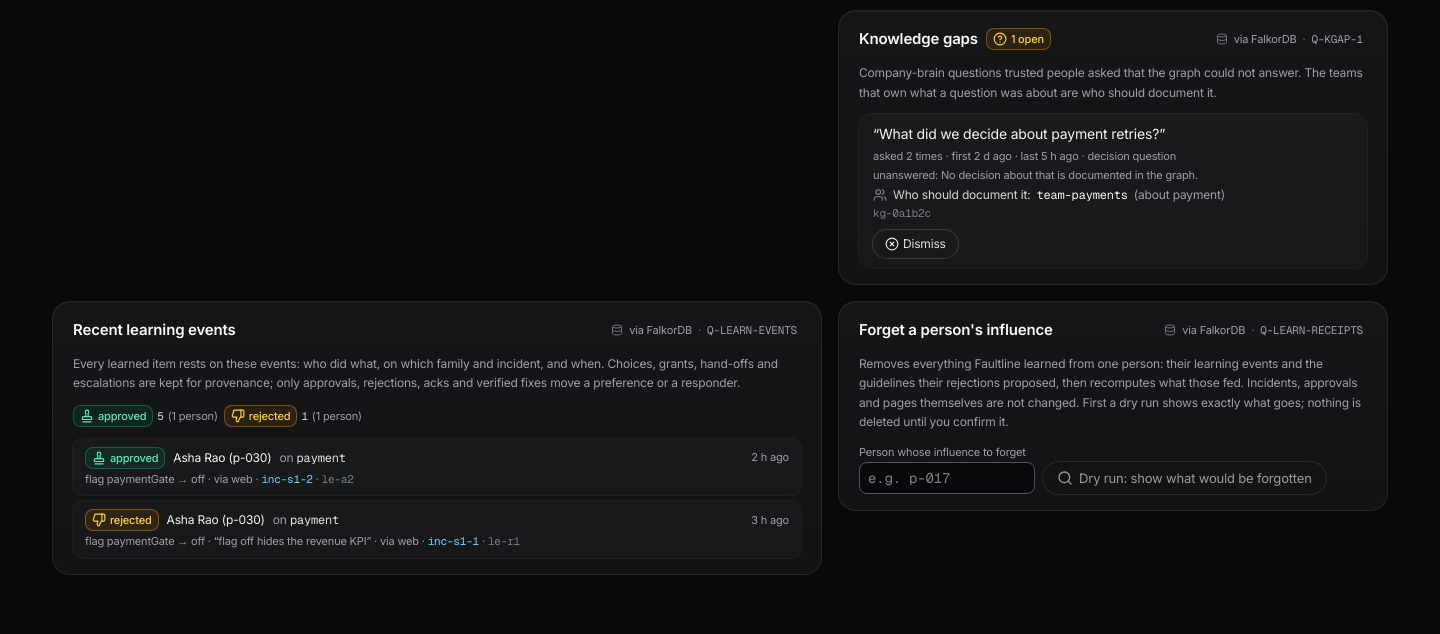
What Faultline has learned › forget: dry run first, then an explicit, irreversible confirm bound to the receipt token, then the receipt
The width and height of the screenshot is (1440, 634).
(page scrolled)
In the field labelled "Person whose influence to forget": (947, 478) [859, 462, 1035, 494], type "p-030"
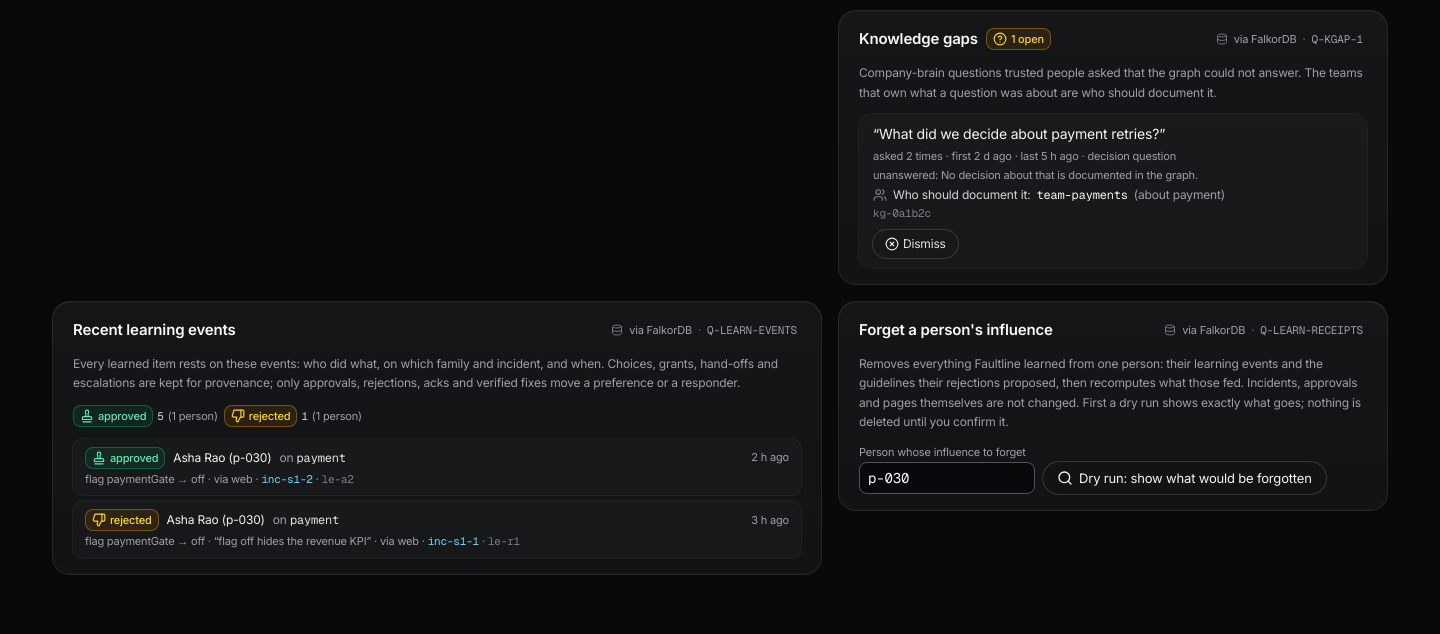
Click the button "Dry run: show what would be forgotten": (1184, 478) [1043, 462, 1326, 494]
(page scrolled)
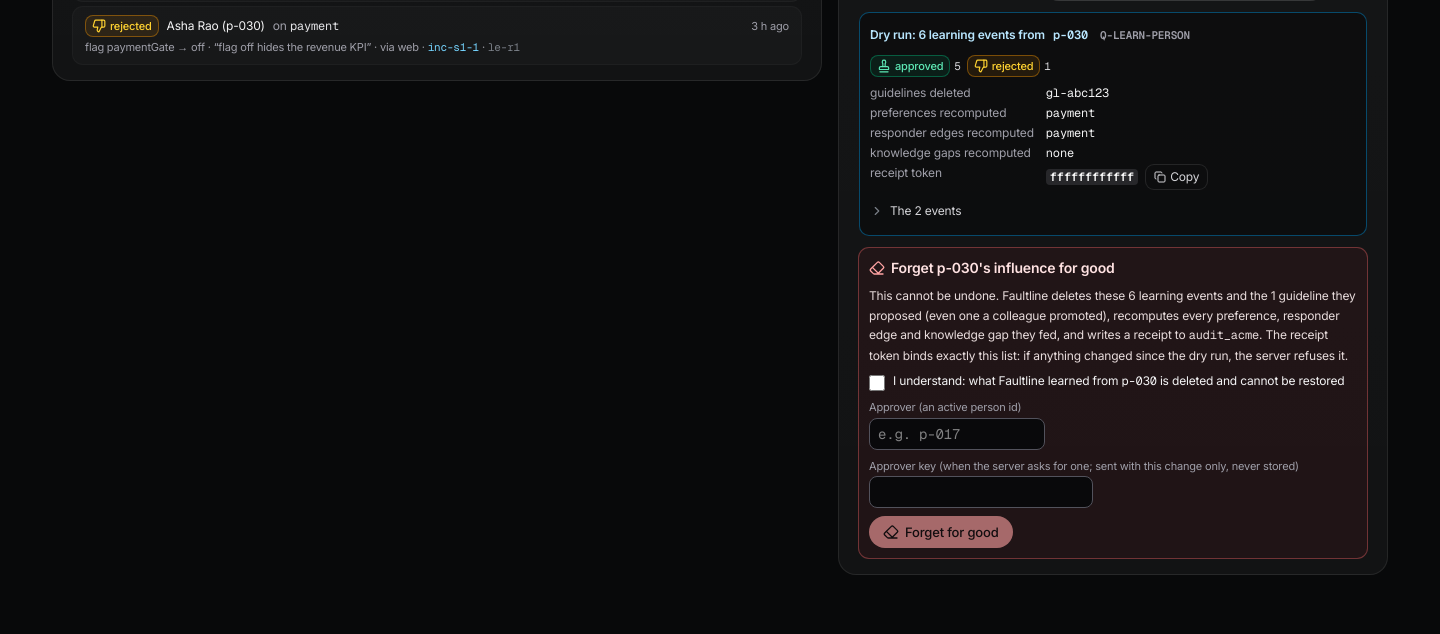
Check: the element named "What will be forgotten" shows "Dry run: 6 learning events from p-030", box [859, 12, 1367, 236]
Check: the element named "What will be forgotten" shows "gl-abc123", box [1046, 85, 1109, 101]
Check: the element "Forget p-030's influence for good" shows "This cannot be undone", box [869, 288, 1128, 303]
In the field labelled "Approver (an active person id)": (957, 434) [869, 418, 1045, 450], type "p-017"
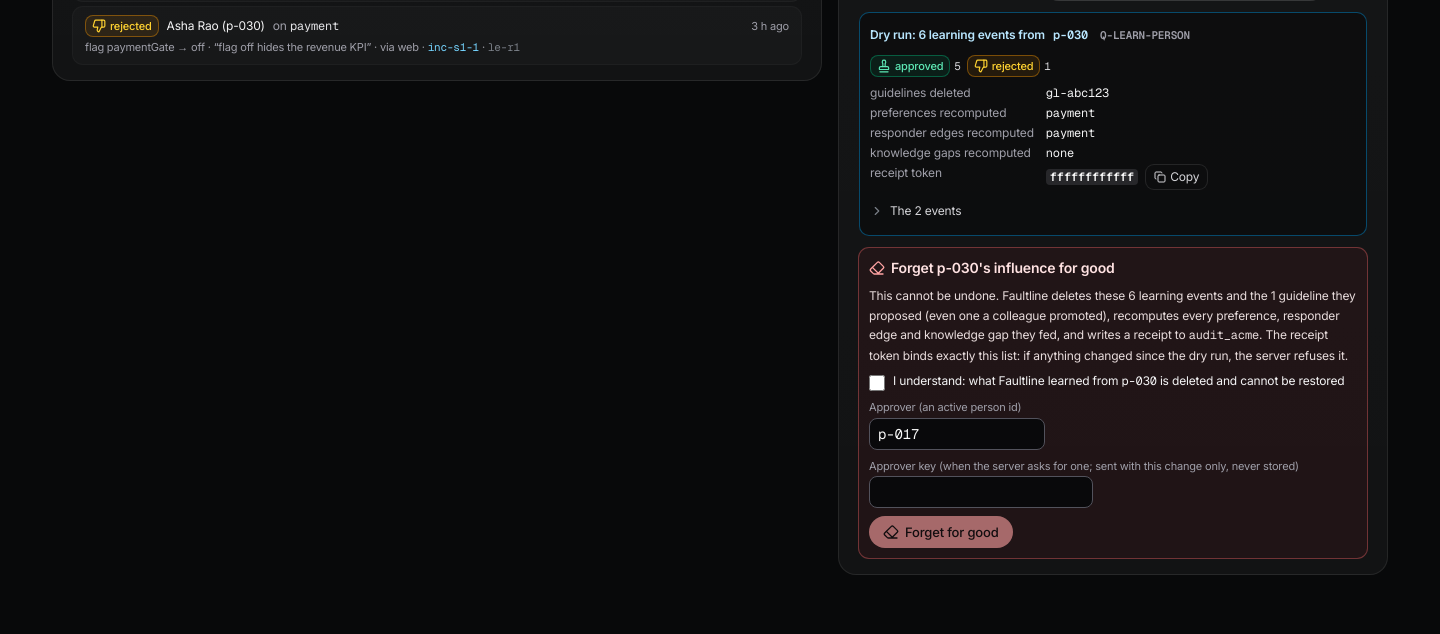
Check: the button "Forget for good" is disabled, box [869, 516, 1012, 548]
Click the checkbox labelled "I understand": (877, 383) [869, 375, 885, 391]
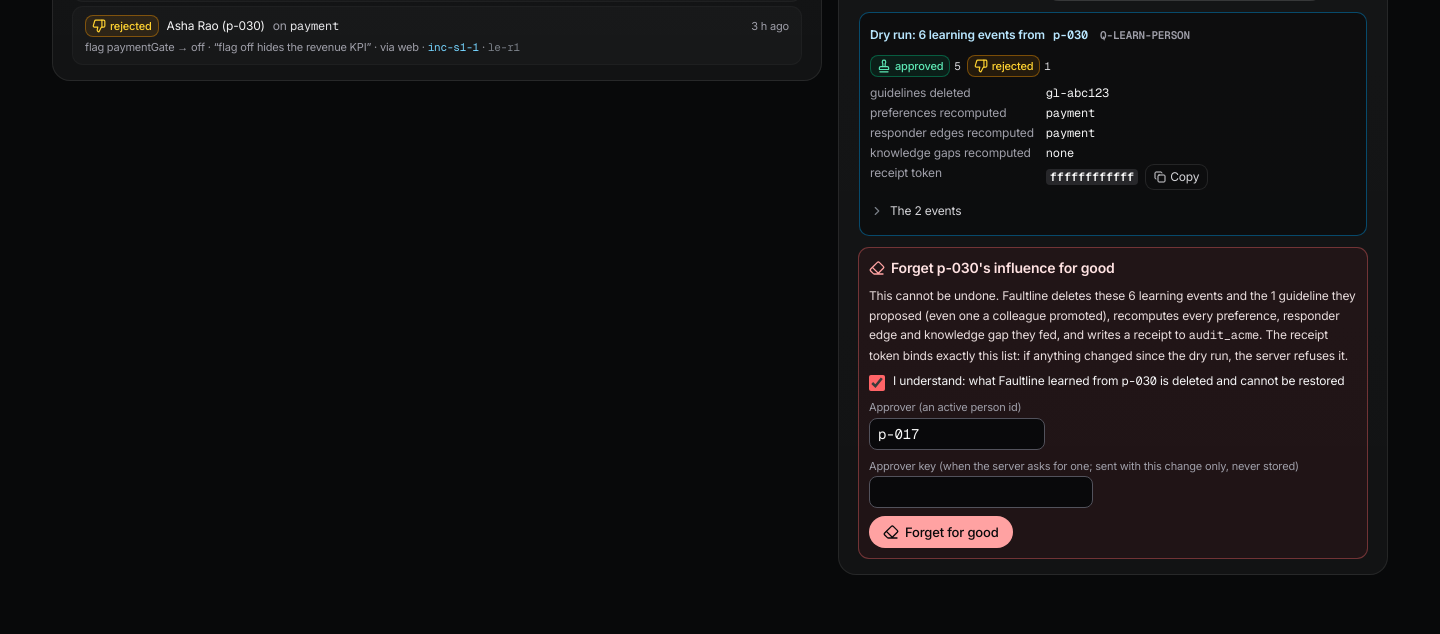
Check: the button "Forget for good" is enabled
Click the button "Forget for good": (941, 532) [869, 516, 1012, 548]
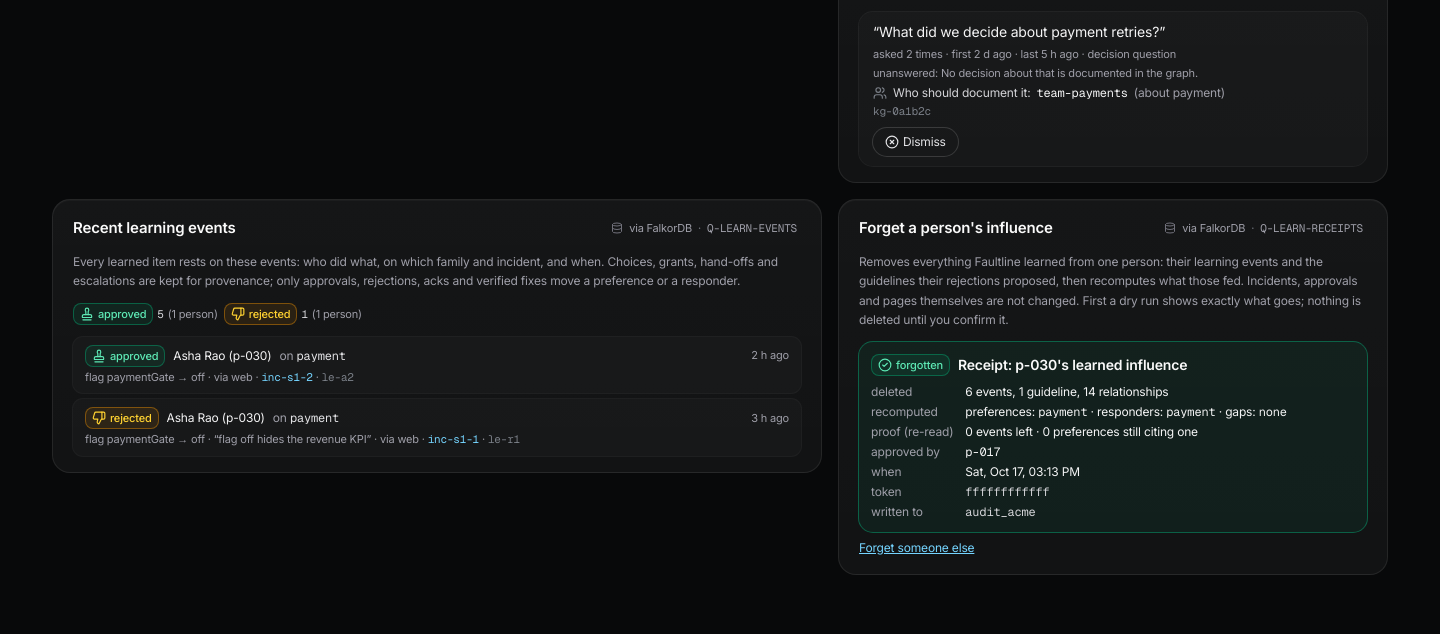
Check: the message shows "forgotten", box [896, 358, 943, 372]
Check: the message shows "6 events, 1 guideline, 14 relationships", box [859, 342, 1367, 532]
Check: the message shows "0 events left · 0 preferences still citing one", box [859, 342, 1367, 532]
